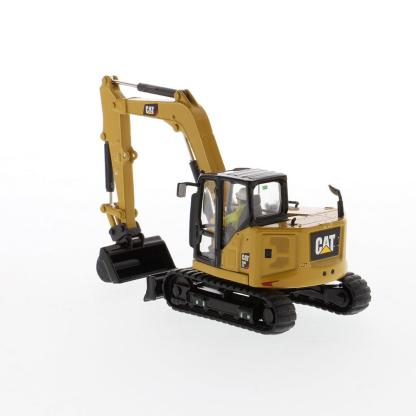excavator: (59, 61, 380, 338)
